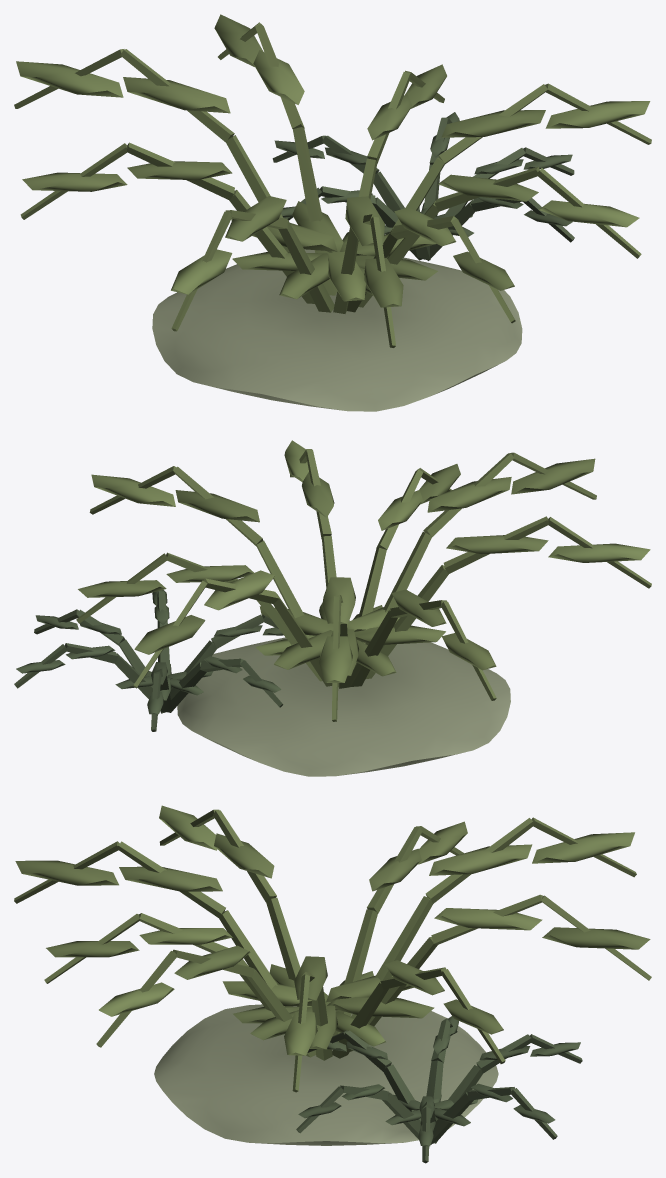
The model's file is cave_fern_a.glb.
3 views of the same model, one above another, from view 1: azimuth 30°, elevation 25°; view 2: azimuth 150°, elevation 25°; view 3: azimuth 270°, elevation 25° (orthographic). The views are drawn at different scales.
Visible parts, largest first — view 1: Surface; view 2: Surface; view 3: Surface.
Part boxes in pixels (<box>): Surface: <box>14,14,651,411</box>; Surface: <box>14,440,651,776</box>; Surface: <box>14,805,651,1163</box>.
Bounding box in the file's own units: 2.31 × 1.01 × 2.49.
